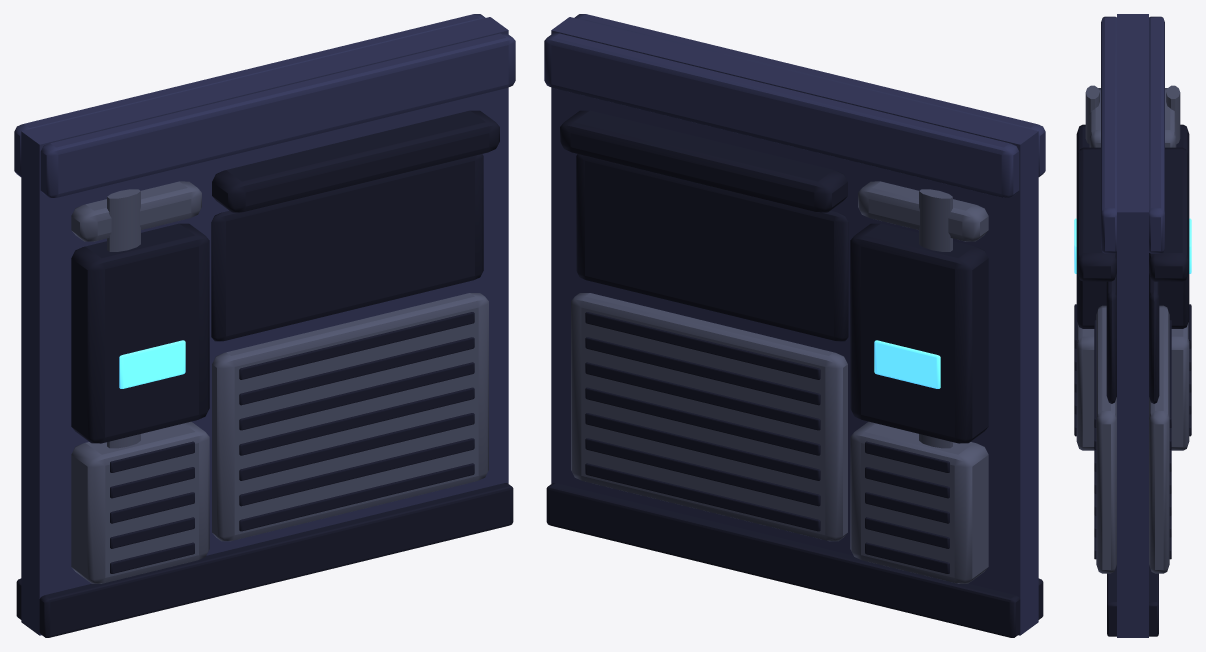
File: wall.straight.c.glb
The picture shows the model from 3 angles, left to right: view 1: azimuth 30°, elevation 25°; view 2: azimuth 150°, elevation 25°; view 3: azimuth 270°, elevation 25°; orthographic projection. The views are drawn at different scales.
Parts seen in each view (by area): view 1: GEO-wall.straight.c; view 2: GEO-wall.straight.c; view 3: GEO-wall.straight.c.
Part boxes in pixels (left/top/right/bottom): GEO-wall.straight.c: left=14, top=14, right=515, bottom=637; GEO-wall.straight.c: left=544, top=14, right=1045, bottom=637; GEO-wall.straight.c: left=1074, top=14, right=1191, bottom=637.
Size of the model in its own units: 1 by 1 by 0.25.
